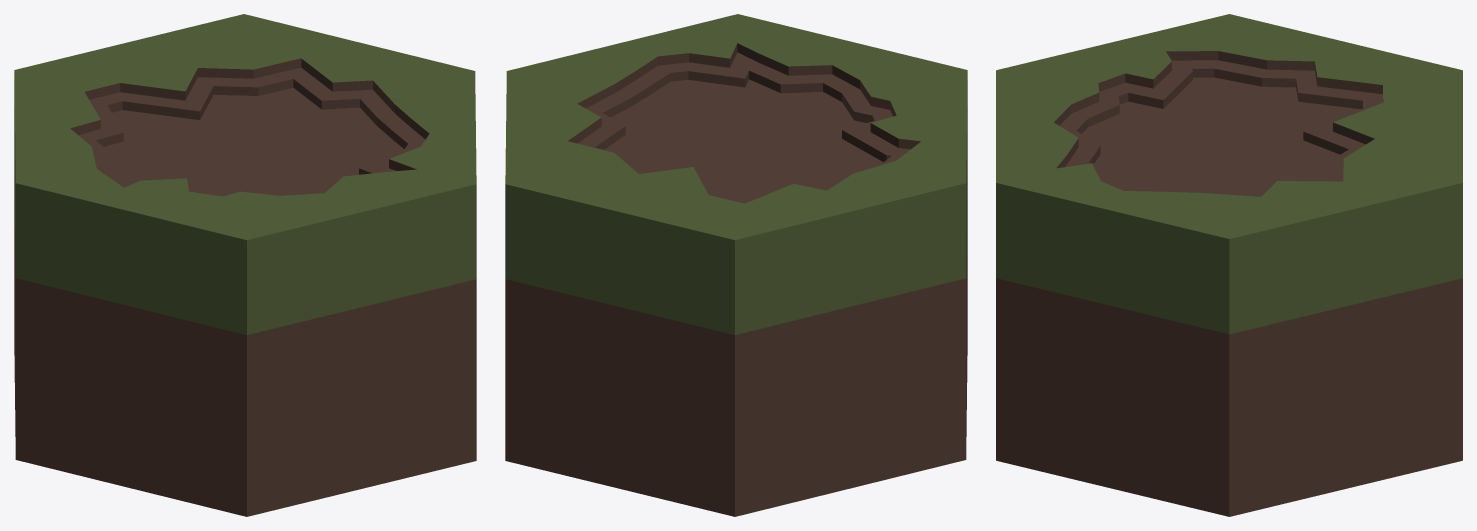
The model's file is HexCellCrate.fbx.
The picture shows the model from 3 angles, left to right: view 1: azimuth 30°, elevation 25°; view 2: azimuth 150°, elevation 25°; view 3: azimuth 270°, elevation 25°; orthographic projection.
Parts seen in each view (by area): view 1: GroundCrate; view 2: GroundCrate; view 3: GroundCrate.
Boxes of the visible parts, <box> form: GroundCrate: <box>14,14,476,516</box>; GroundCrate: <box>505,14,967,516</box>; GroundCrate: <box>996,14,1462,516</box>.
Size of the model in its own units: 203 by 117 by 178.
